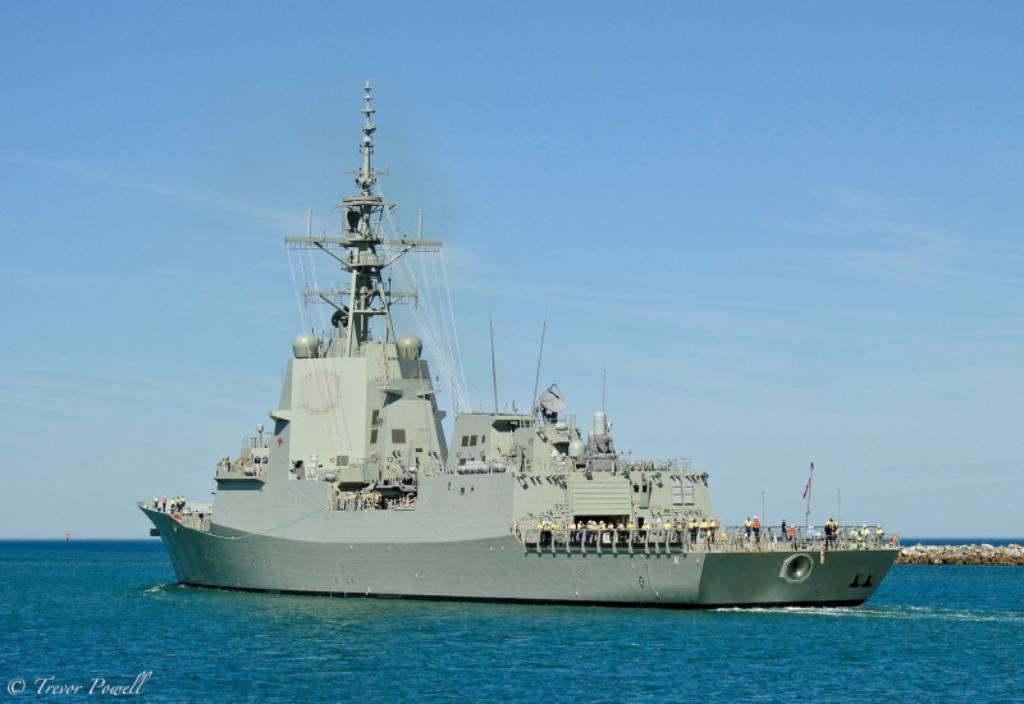Warship: (128, 76, 906, 608)
